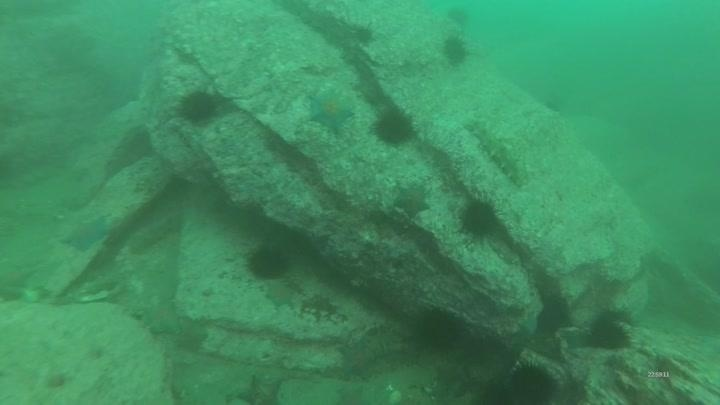echinus: (412, 305, 465, 353), (506, 359, 559, 404), (585, 311, 634, 353), (457, 196, 501, 241), (371, 105, 416, 147), (244, 242, 291, 282), (176, 87, 221, 125), (534, 293, 572, 337), (440, 34, 471, 67), (351, 23, 377, 47), (445, 5, 472, 28)
holothurian: (465, 116, 531, 188), (125, 214, 176, 256), (75, 267, 124, 301)
starfish: (306, 88, 356, 134), (58, 213, 112, 254), (230, 371, 288, 404), (137, 297, 184, 337), (337, 336, 380, 378), (391, 181, 433, 219), (172, 321, 210, 355), (261, 280, 298, 310)
